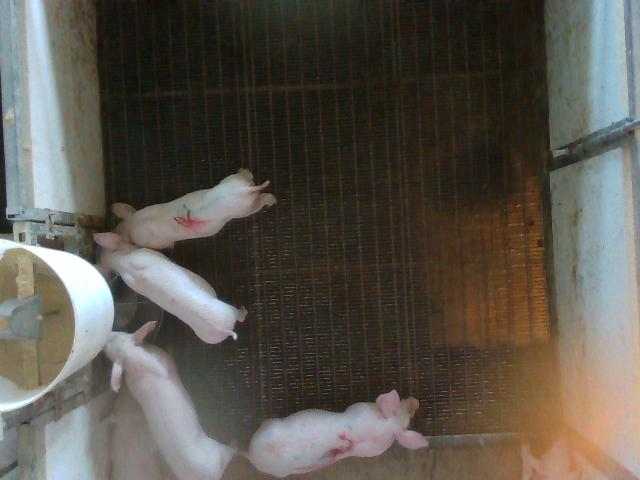pig-3: (248, 390, 429, 477)
pig-4: (112, 169, 275, 248)
